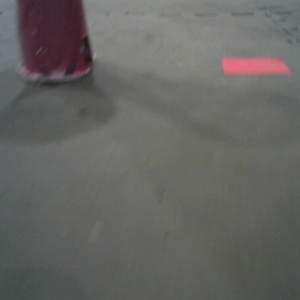middle: (16, 1, 98, 84)
